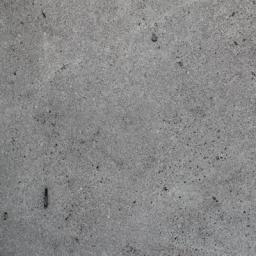FOD: (43, 187, 52, 212)
